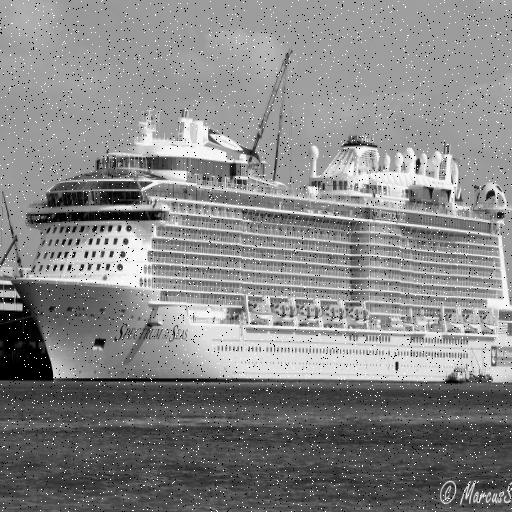cruises: (9, 102, 512, 391)
